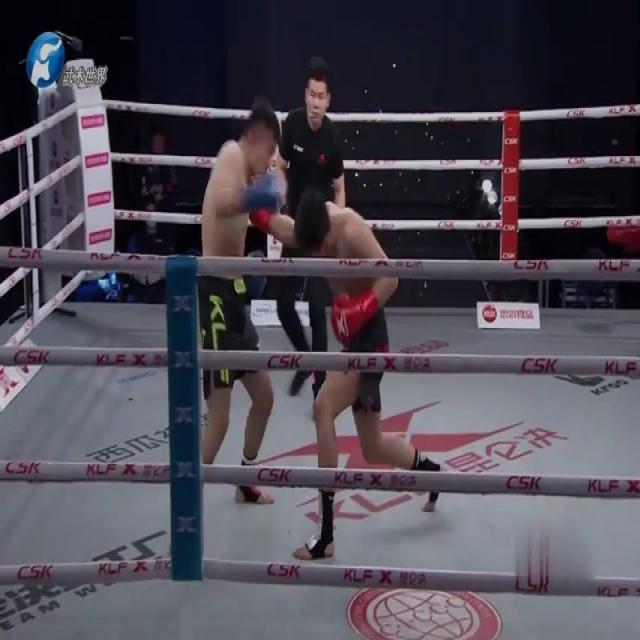fight: (198, 94, 445, 557)
non-fight: (275, 57, 347, 413)
